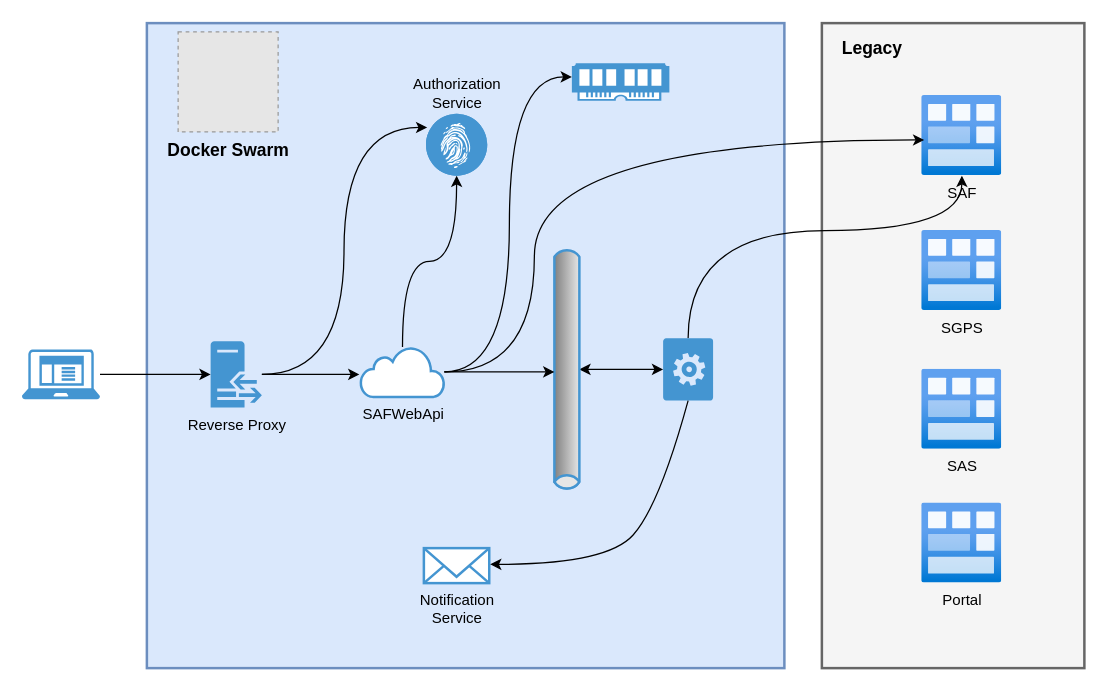
The diagram is 1106 pixels wide and 690 high, and some of its shapes have lost their labels. Grey dashed boxes stand in for pictures. The shapes that lost their labels are listed below. From the top down, each one's box as (x1, y1, x2, y2) in pixels, then its label:
(571, 62, 669, 100): Cache
(21, 349, 99, 399): Client
(552, 245, 580, 492): Message Bus
(662, 338, 712, 400): Message Processor
